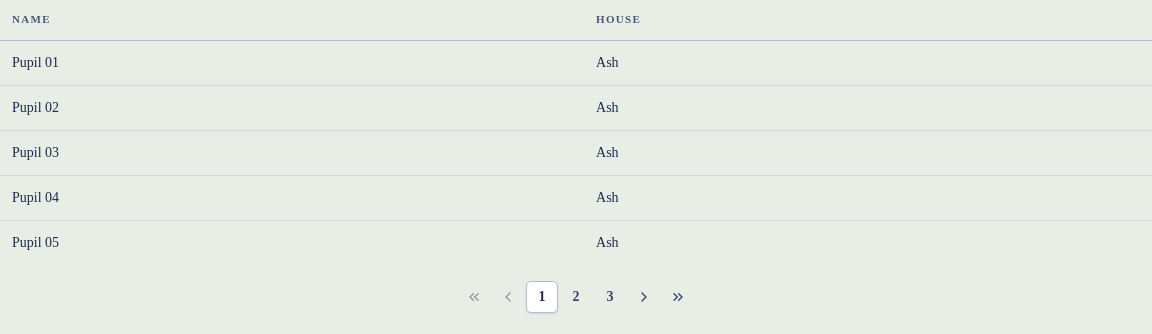
Test: DataTable › Pagination › shows one page of rows and moves to the next page
Expected: the cell "Pupil 05" is shown, [0,220,584,264]
Click the button named "Next page": (644, 296) [628,280,660,312]
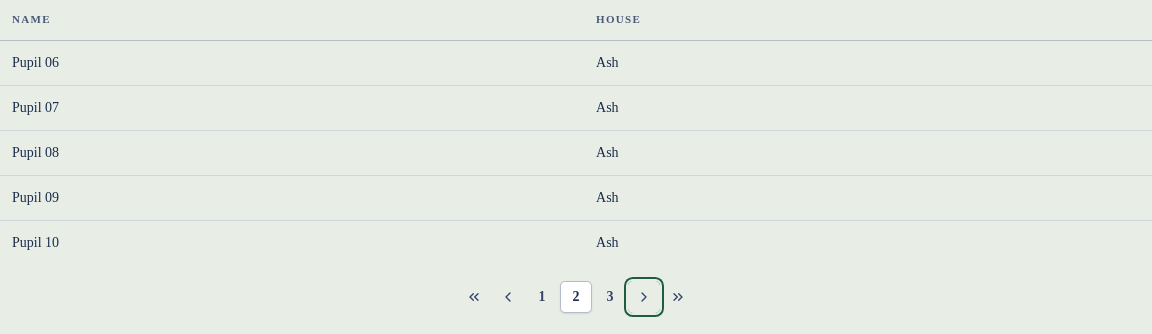
Result: the row "Pupil 06 Ash" is shown at [0,40,1151,85]
